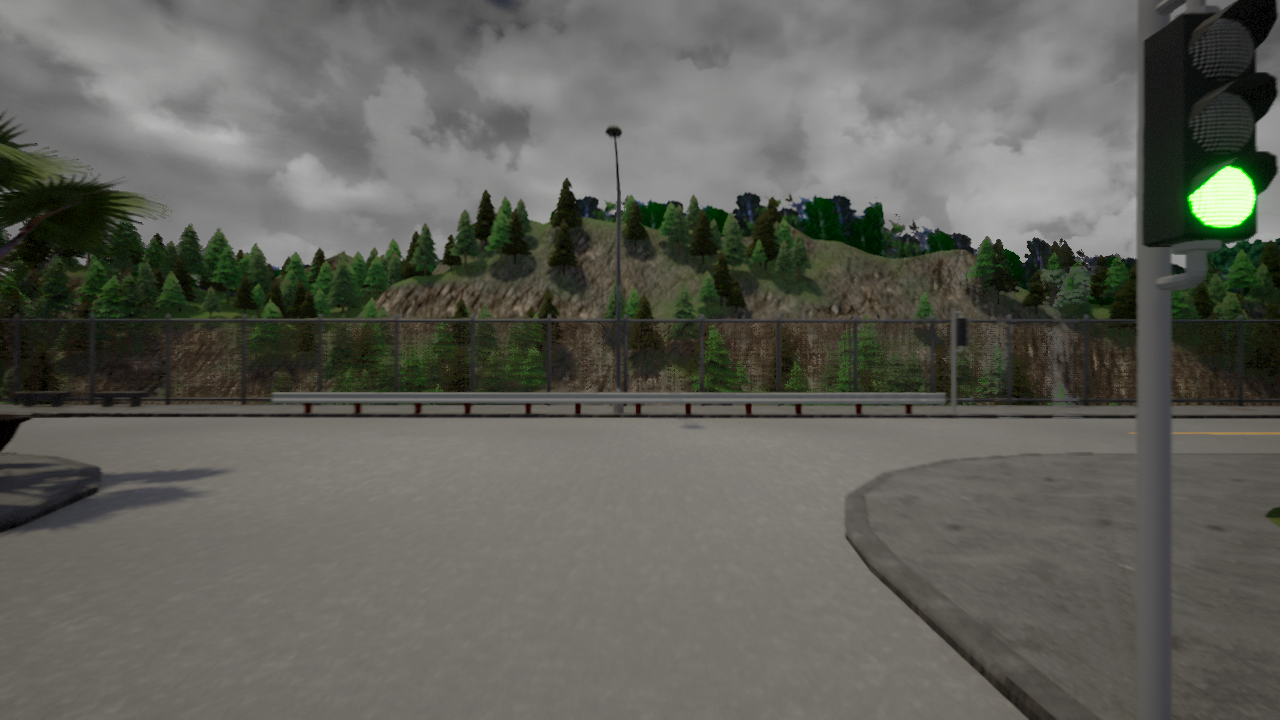green: (1156, 2, 1280, 248)
